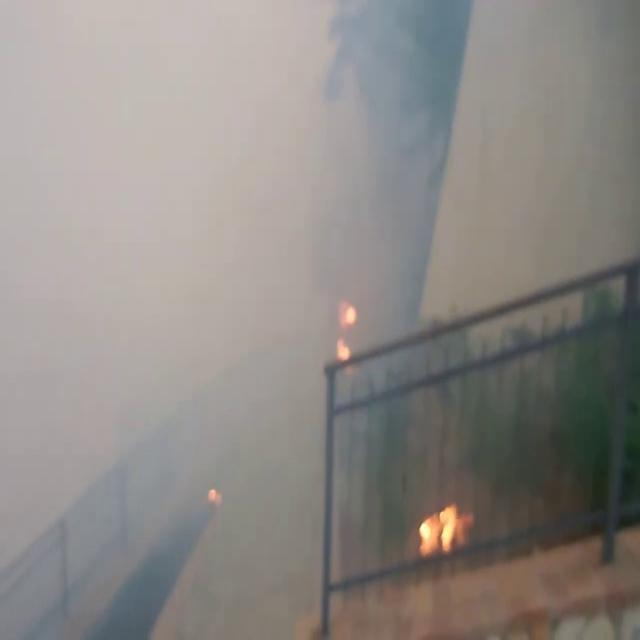Fire: (414, 489, 470, 558)
Smoke: (0, 2, 422, 640)
